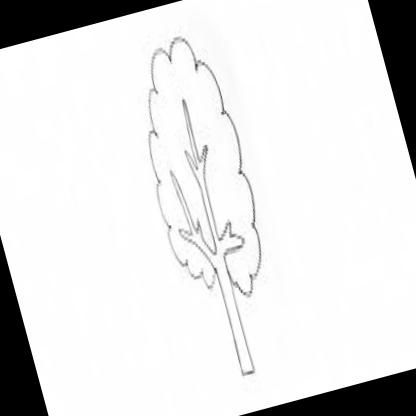branch_sharp: (145, 90, 249, 272)
crown_cloud: (114, 16, 282, 316)
trunk_straight: (219, 290, 252, 356)
